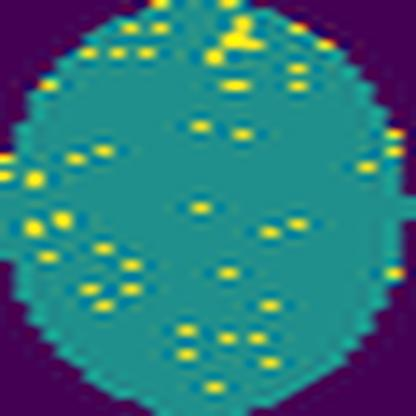Loc: (207, 18, 262, 61)
